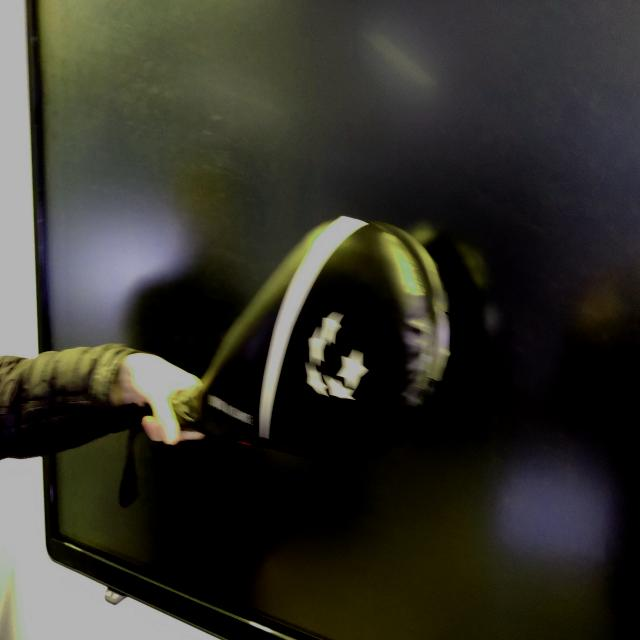paddle: (174, 212, 454, 466)
